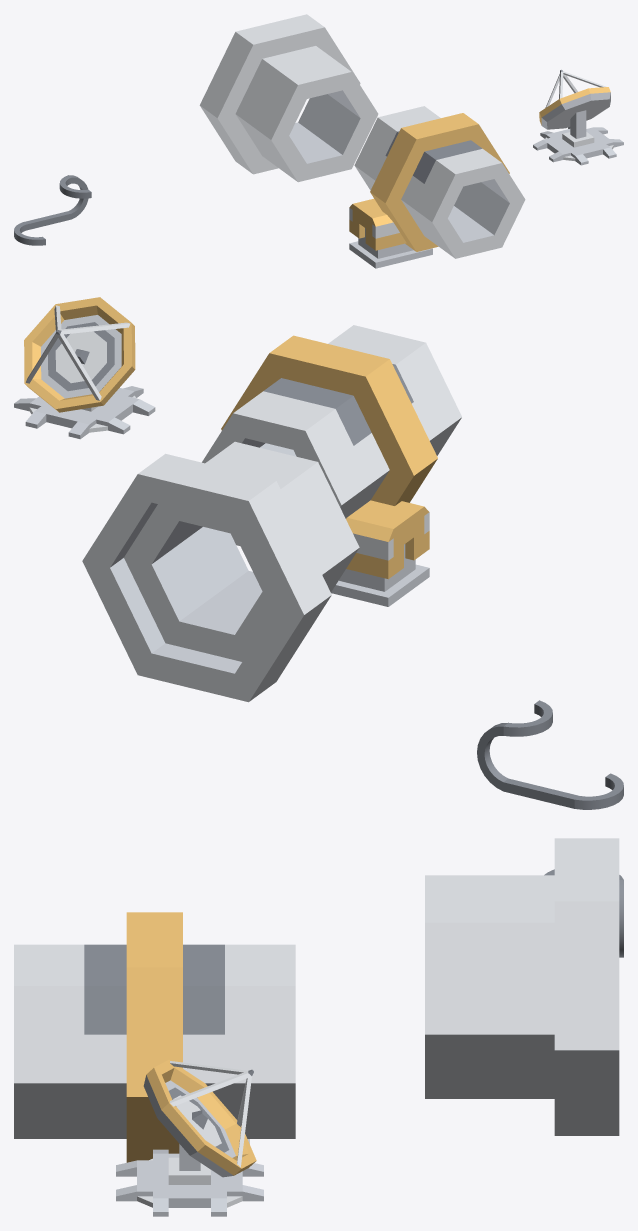
The model's file is ice_extractor_lvl3.glb.
3 renders of one model, top to bottom at view 1: azimuth 30°, elevation 25°; view 2: azimuth 150°, elevation 25°; view 3: azimuth 270°, elevation 25°, orthographic. The views are drawn at different scales.
Visible parts, largest first — view 1: pipe_entrance.001, pipe_ring.001, satelliteDish_detailed.001, machine_generator.001, cable.002; view 2: pipe_entrance.001, pipe_ring.001, satelliteDish_detailed.001, machine_generator.001, cable.002; view 3: pipe_ring.001, pipe_entrance.001, satelliteDish_detailed.001.
Boxes of the visible parts, left/top/right/bottom form: pipe_entrance.001: left=199, top=14, right=378, bottom=182; pipe_ring.001: left=354, top=106, right=525, bottom=258; satelliteDish_detailed.001: left=533, top=69, right=623, bottom=165; machine_generator.001: left=349, top=198, right=432, bottom=268; cable.002: left=14, top=175, right=91, bottom=245; pipe_entrance.001: left=82, top=441, right=359, bottom=702; pipe_ring.001: left=202, top=325, right=461, bottom=546; satelliteDish_detailed.001: left=14, top=297, right=155, bottom=439; machine_generator.001: left=331, top=500, right=429, bottom=606; cable.002: left=477, top=700, right=623, bottom=809; pipe_ring.001: left=14, top=912, right=295, bottom=1162; pipe_entrance.001: left=425, top=838, right=619, bottom=1135; satelliteDish_detailed.001: left=116, top=1060, right=263, bottom=1216.
Size of the model in its own units: 3.63 by 1.03 by 2.17.
